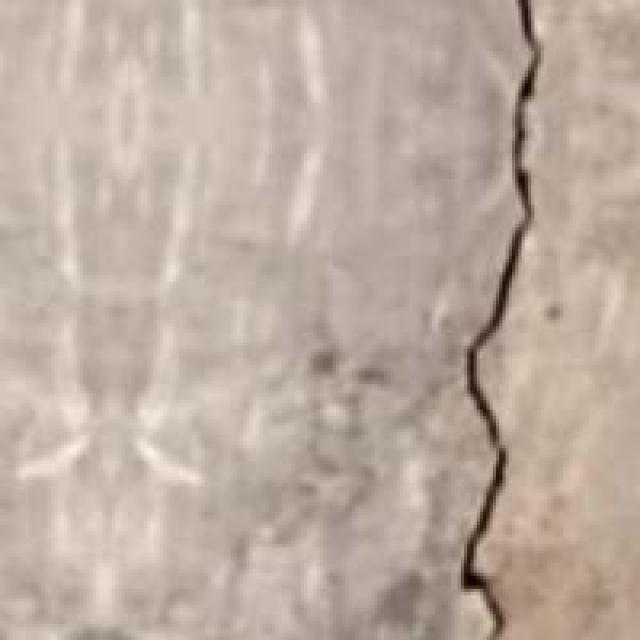crack: (445, 0, 573, 637)
